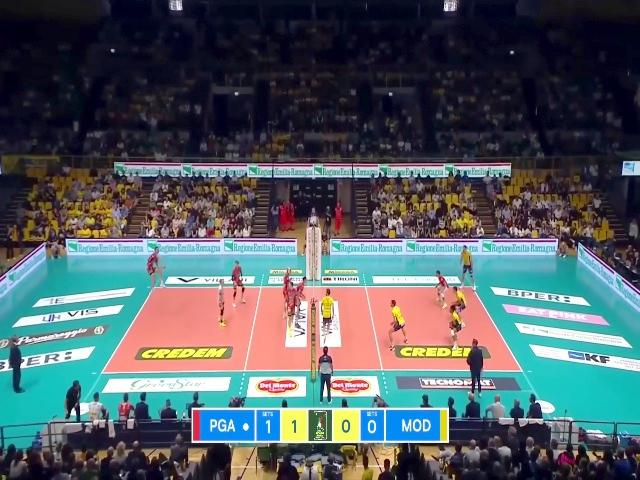volleyball court: (101, 283, 522, 373)
